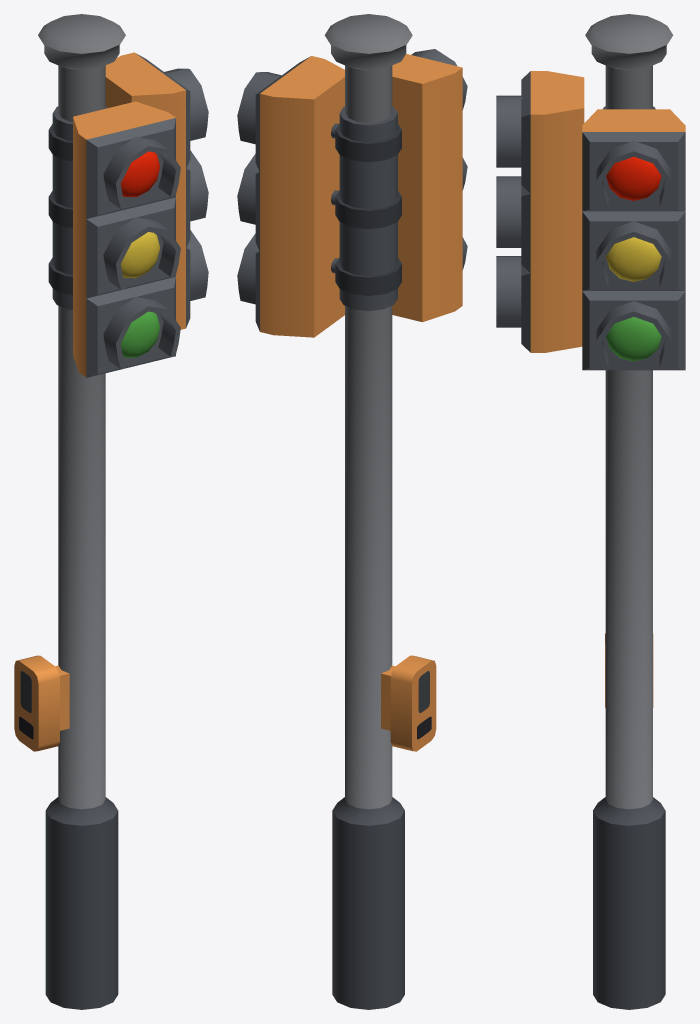
Rendered from TrafficLight_1.fbx.
3 renders of one model, left to right at view 1: azimuth 30°, elevation 25°; view 2: azimuth 150°, elevation 25°; view 3: azimuth 270°, elevation 25°, orthographic.
Parts seen in each view (by area): view 1: TrafficLight_1; view 2: TrafficLight_1; view 3: TrafficLight_1.
Part boxes in pixels (x1=…): TrafficLight_1: x1=14, y1=14, x2=208, y2=1009; TrafficLight_1: x1=237, y1=14, x2=467, y2=1009; TrafficLight_1: x1=496, y1=14, x2=685, y2=1009.
Bounding box in the file's own units: 42.7 × 237 × 42.11.
